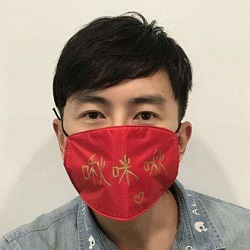mask: (56, 122, 180, 220)
